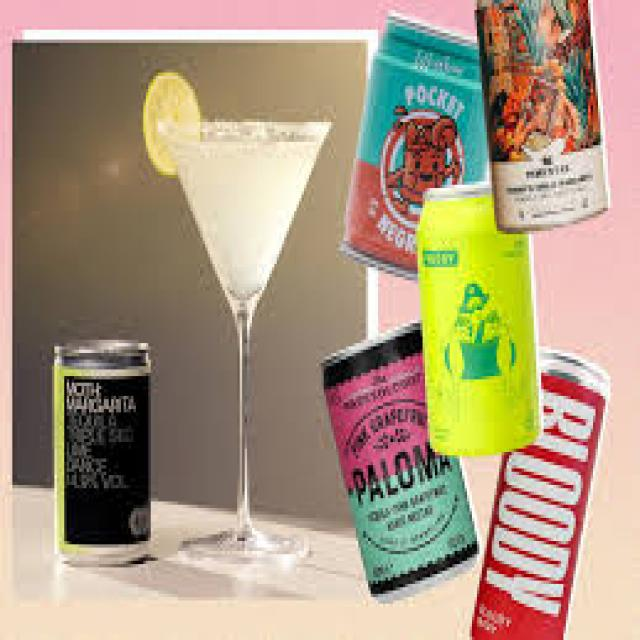Cans: (319, 310, 492, 604), (469, 353, 613, 640), (343, 7, 487, 270), (415, 185, 549, 465), (47, 333, 156, 571)
